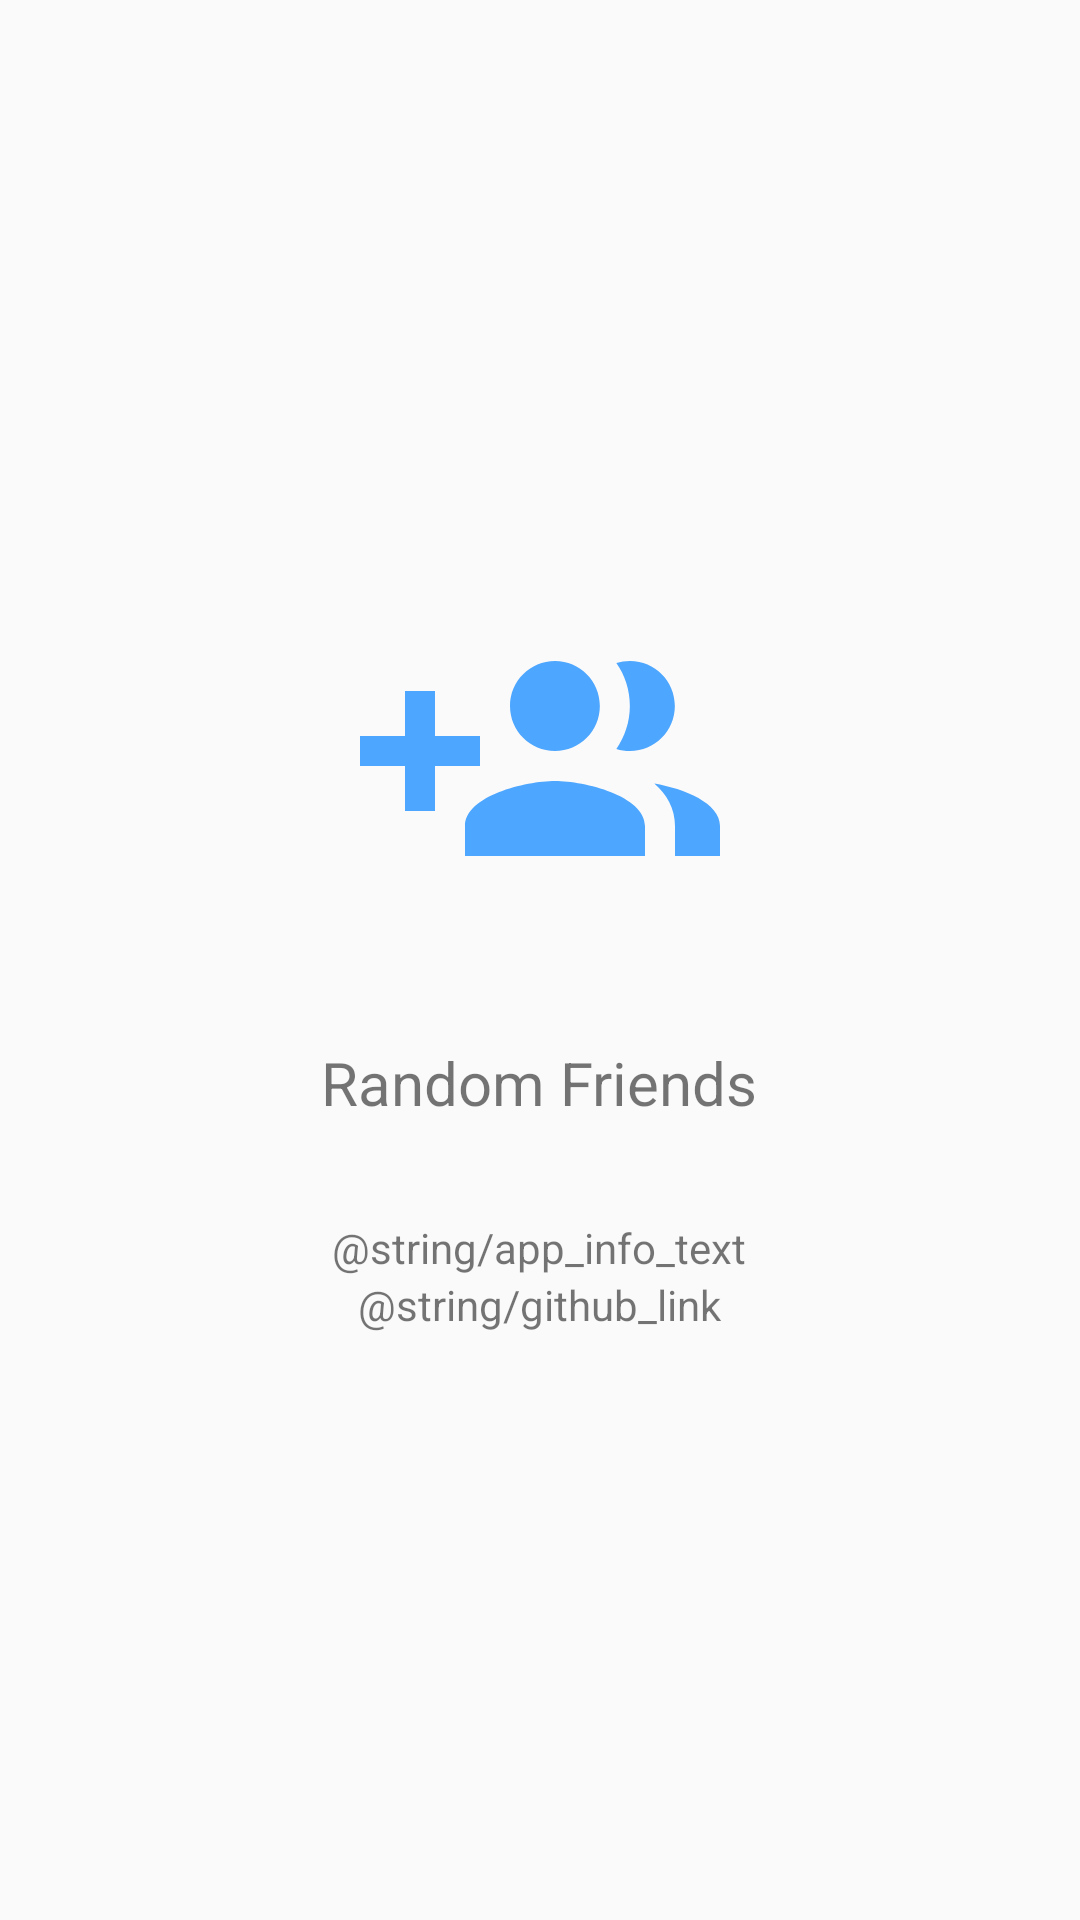

Named icons in this screenshot (1080w x 1920h) and their bounding boxes, (x1, y1, x2, y2):
group add: (360, 661, 720, 856)
